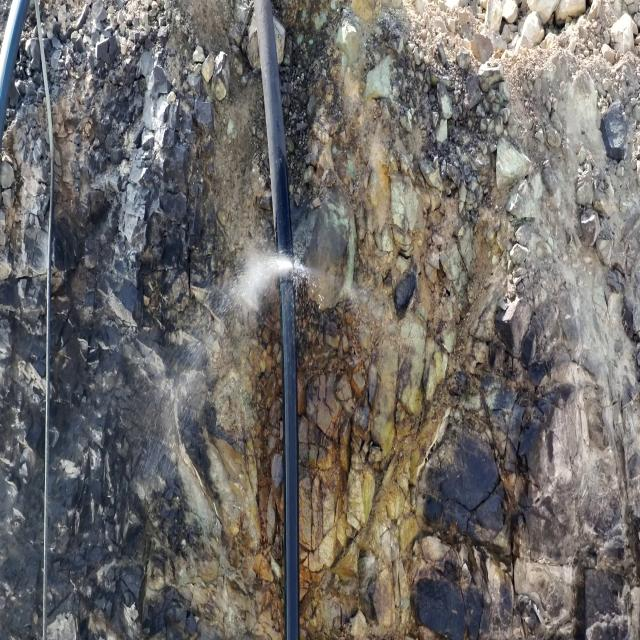leak: (126, 237, 326, 495)
